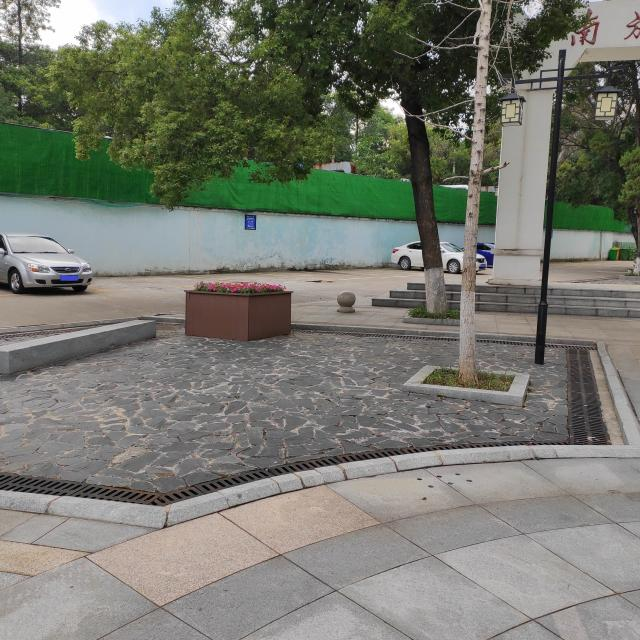ash bin: (619, 248, 629, 260), (612, 247, 620, 260), (609, 249, 617, 260)
car: (0, 230, 93, 293), (390, 239, 487, 274), (461, 242, 495, 266)
pole: (532, 50, 568, 365)
spherical_roadblock: (336, 290, 355, 312)
